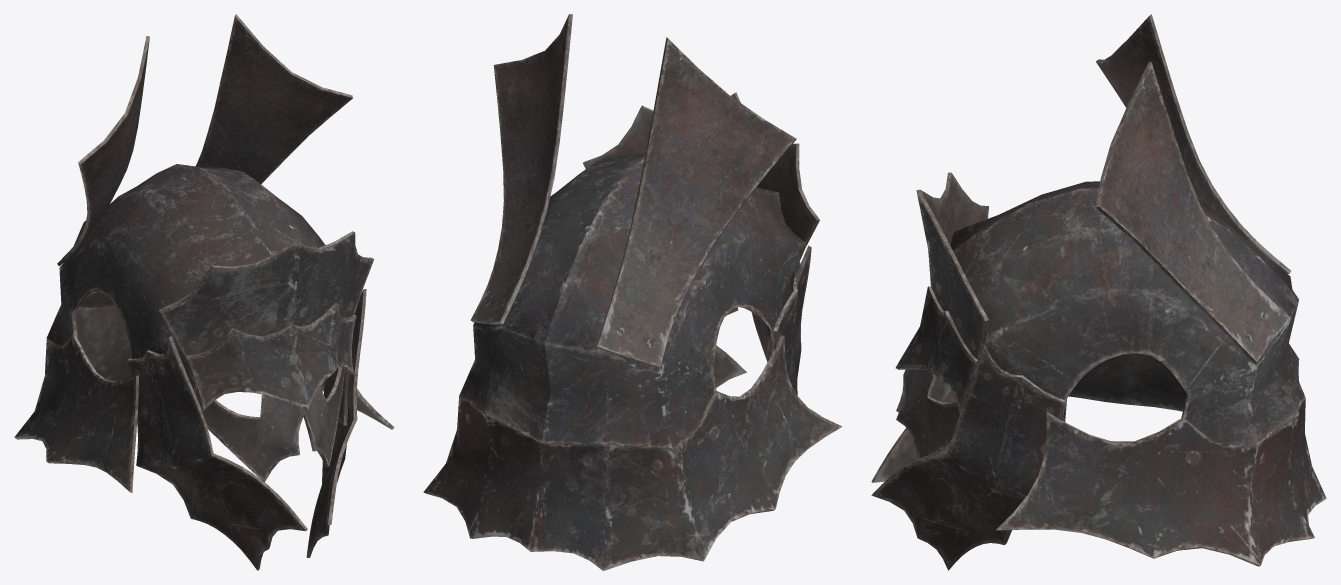
The model's file is sk_dg_uruk_helmet_lord_e.fbx.
3 renders of one model, left to right at view 1: azimuth 30°, elevation 25°; view 2: azimuth 150°, elevation 25°; view 3: azimuth 270°, elevation 25°, orthographic. The views are drawn at different scales.
Parts seen in each view (by area): view 1: sk_dg_uruk_helmet_lord_e; view 2: sk_dg_uruk_helmet_lord_e; view 3: sk_dg_uruk_helmet_lord_e.
Part boxes in pixels (bbox=[...]): sk_dg_uruk_helmet_lord_e: bbox=[14, 14, 394, 570]; sk_dg_uruk_helmet_lord_e: bbox=[423, 14, 842, 570]; sk_dg_uruk_helmet_lord_e: bbox=[871, 14, 1326, 570].
Size of the model in its own units: 0.2774 by 0.346 by 0.435.
Materials: 1 (1 with a texture image).
